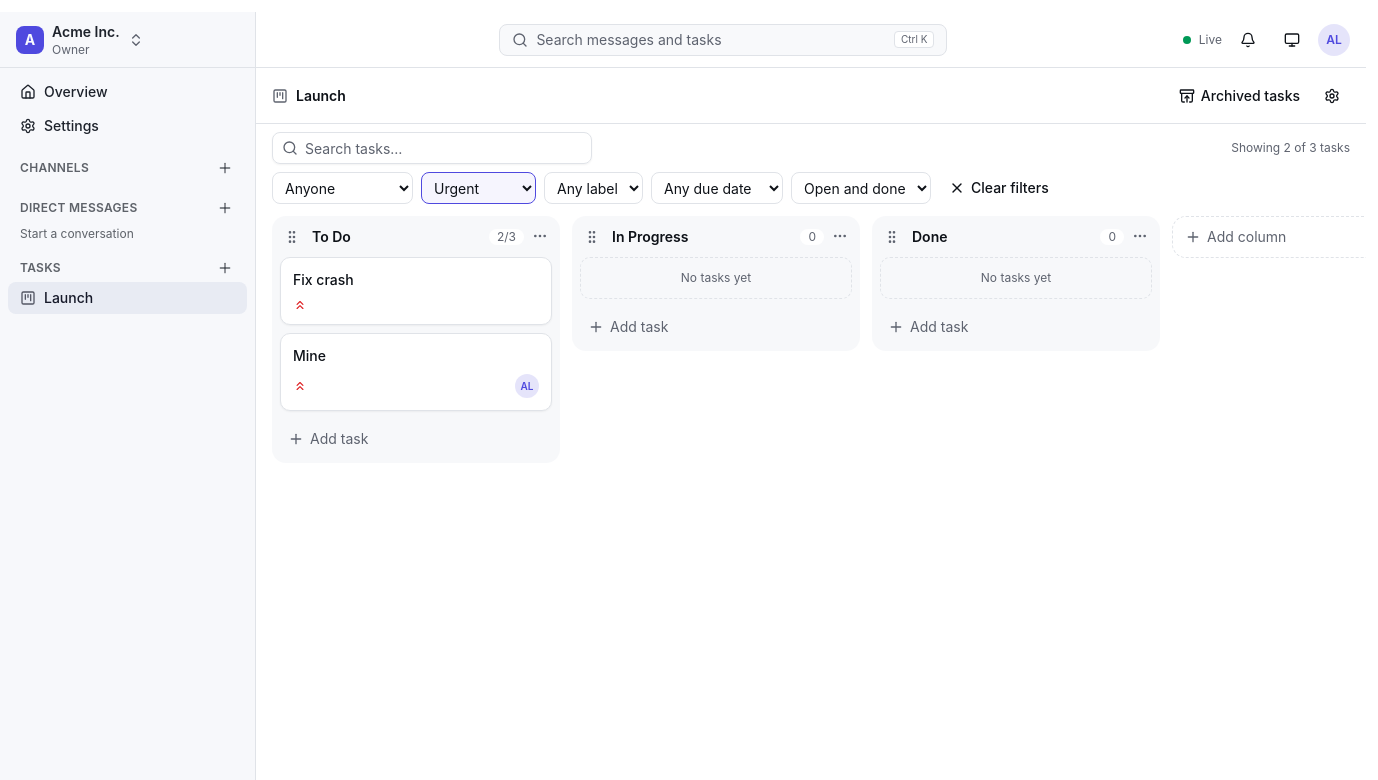
Scenario: filters › filters from the URL, combines filters and searches titles and descriptions
Expected: the heading "Launch" is shown, [296,86,346,106]
Expected: the text "Showing 2 of 3 tasks" is shown, [1231,140,1350,156]
Step 1. Select "Assigned to me" in the 1st dropdown named "Assignee" → coordinates (342, 188), box [272,172,413,204]
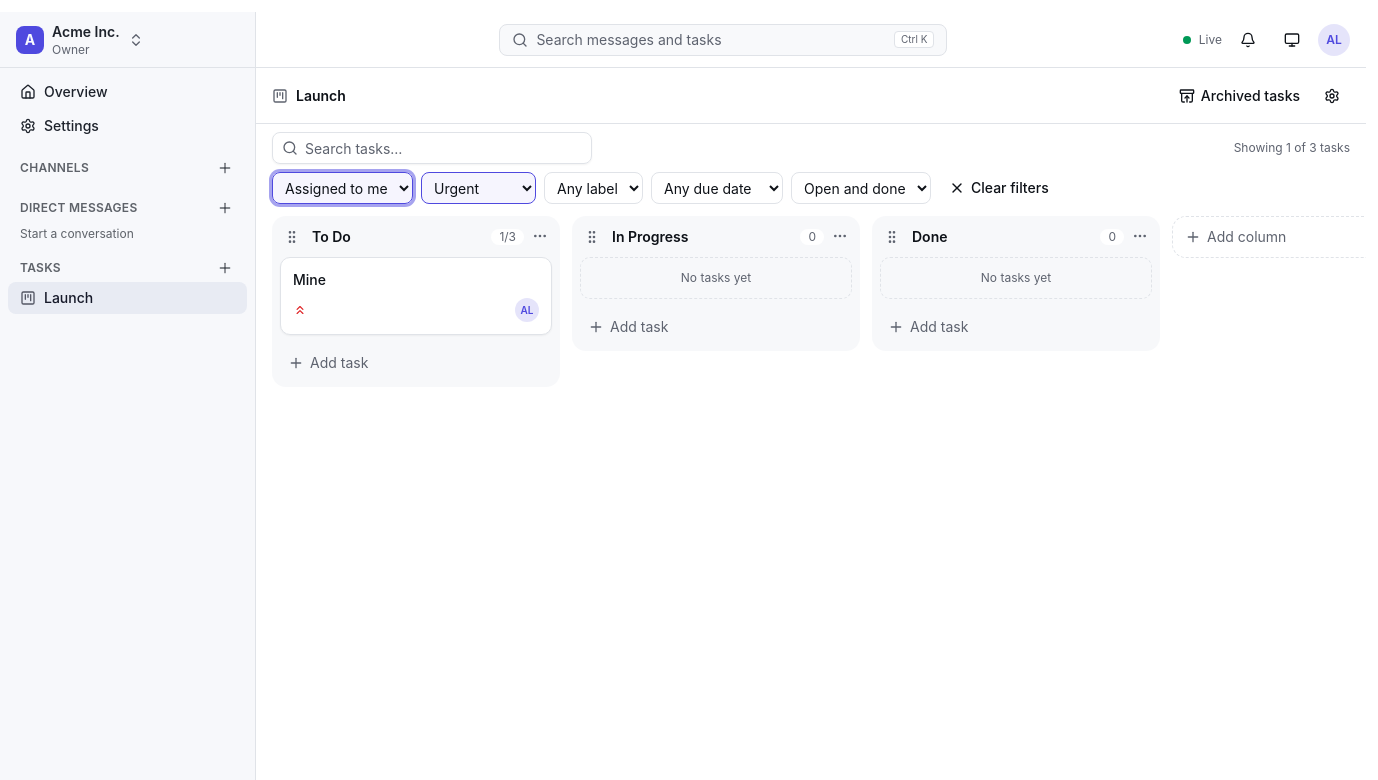
Expected: the button "Mine AL" is shown, [280,257,552,335]
Expected: the button "Fix crash" is gone
Step 2. Click the button "Clear filters" → coordinates (999, 188), box [939,172,1059,204]
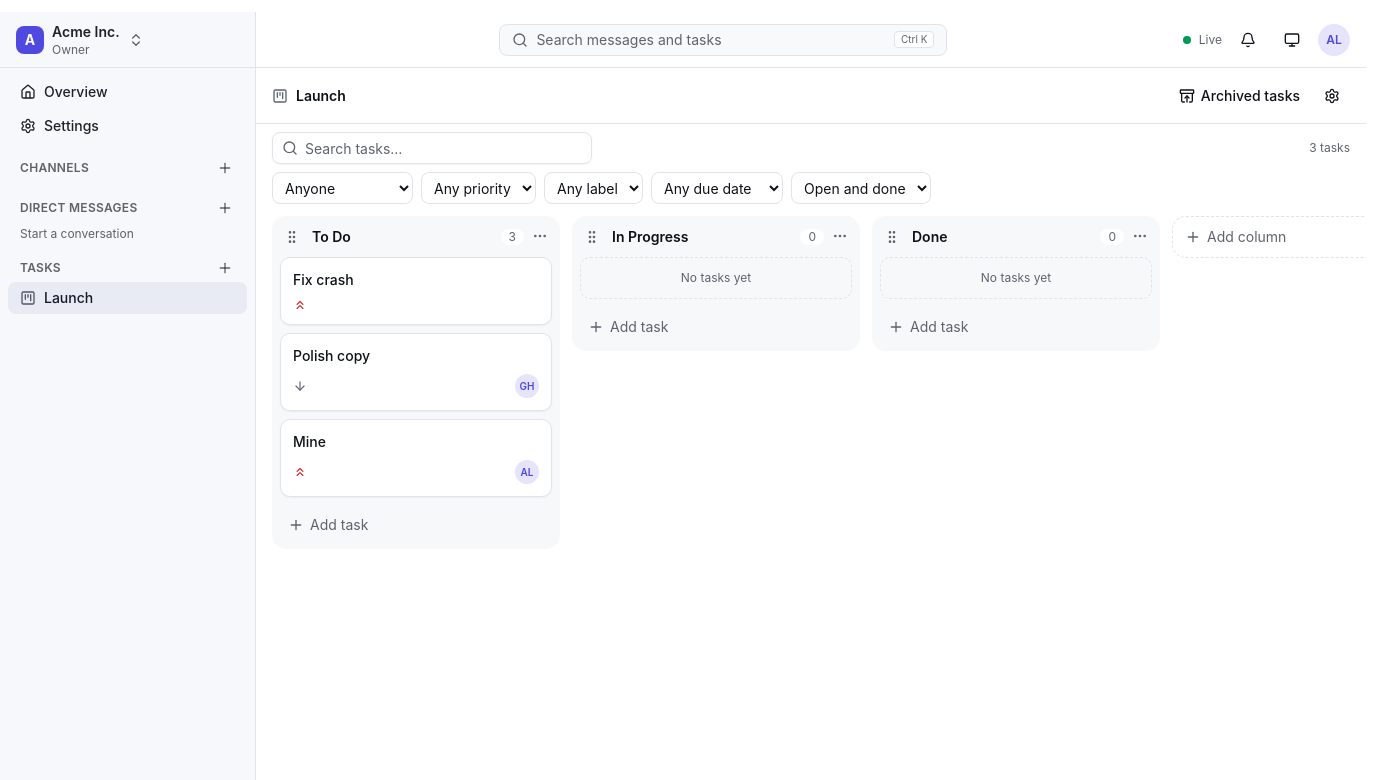
Step 3. Type "landing" into the search field named "Search tasks on this board" → coordinates (432, 148), box [272,132,592,164]
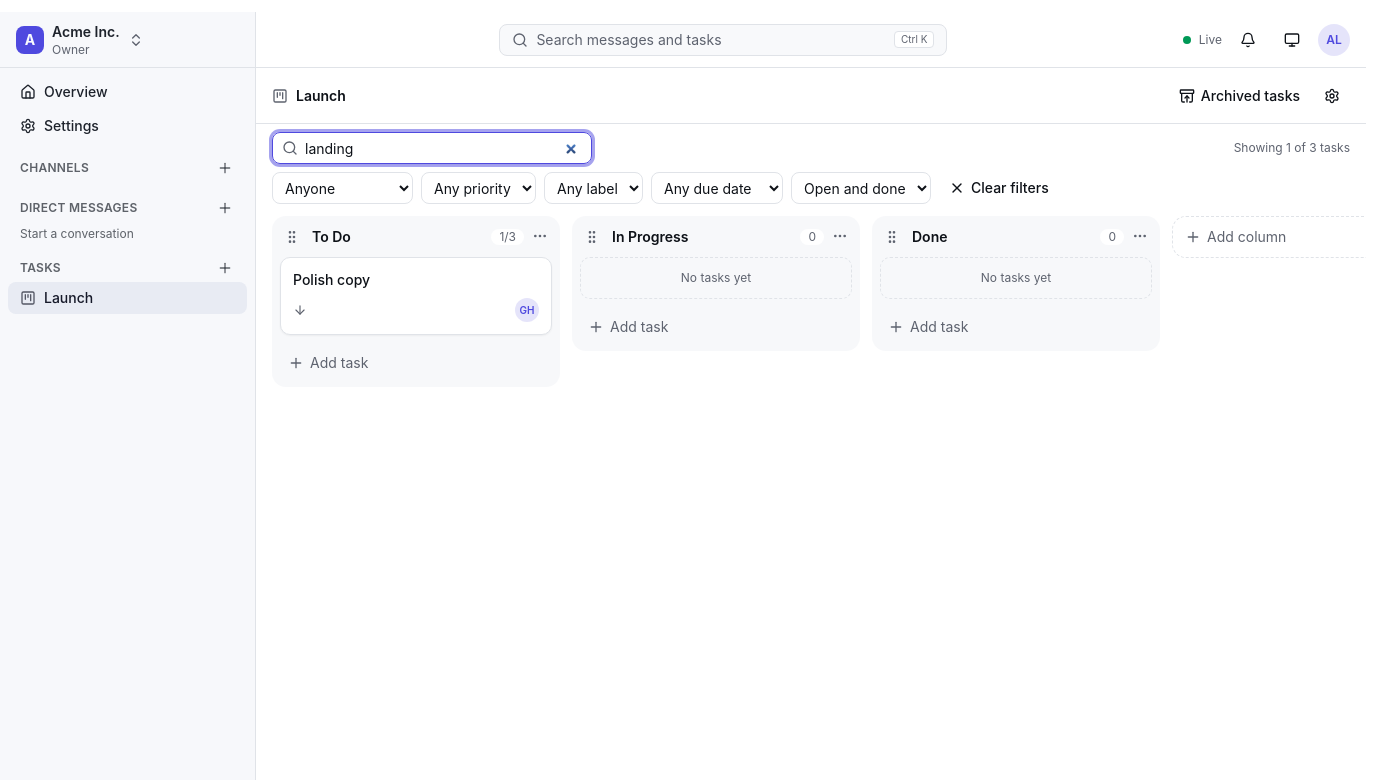
Expected: the button "Polish copy GH" is shown, [280,257,552,335]
Expected: the button "Fix crash" is gone
Expected: the text "Showing 1 of 3 tasks" is shown, [1234,140,1350,156]
